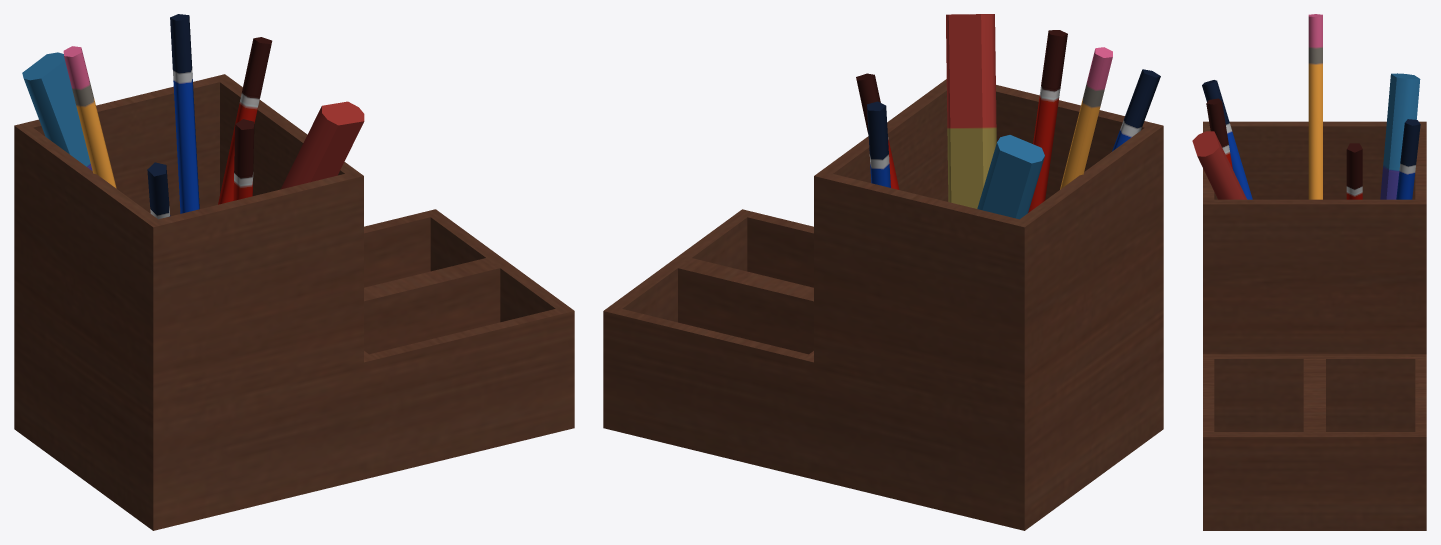
The model's file is organizer.FBX.
The picture shows the model from 3 angles, left to right: view 1: azimuth 30°, elevation 25°; view 2: azimuth 150°, elevation 25°; view 3: azimuth 270°, elevation 25°; orthographic projection. The views are drawn at different scales.
Visible parts, largest first — view 1: organizer; view 2: organizer; view 3: organizer.
Boxes of the visible parts, x1,y1,x2,y2 form: organizer: [14, 14, 574, 530]; organizer: [603, 14, 1163, 530]; organizer: [1192, 14, 1426, 530].
Bounding box in the file's own units: 7.32 × 4.19 × 6.87.
